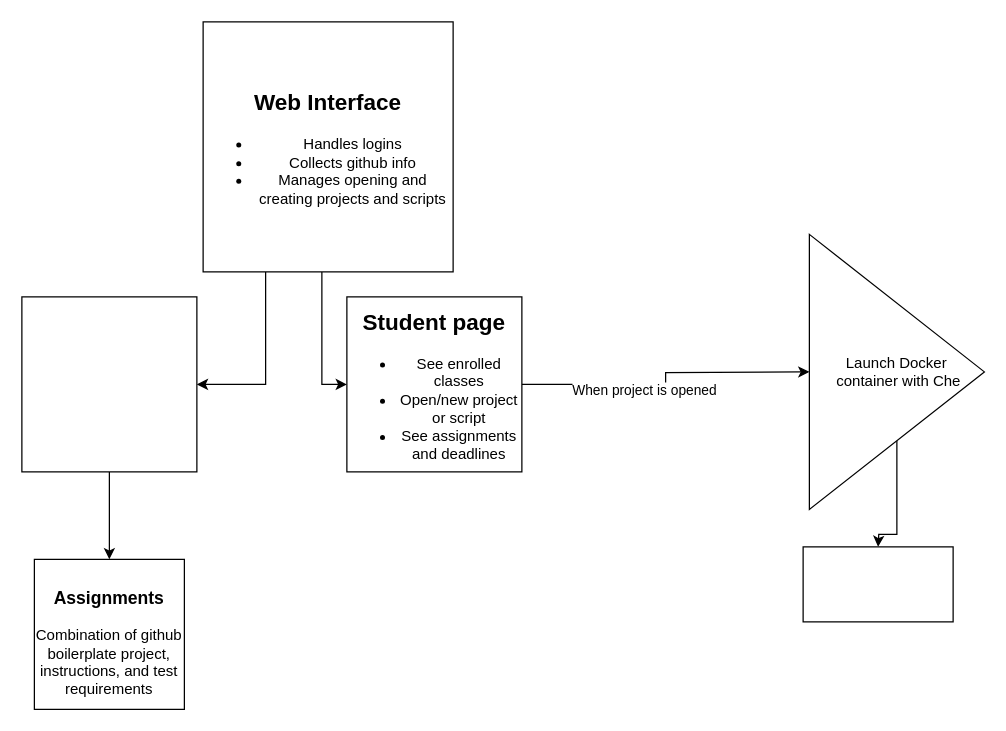
This 1006x731 diagram has some shape labels left out. The box of each missing label's shape, as (x1, y1, x2, y2) in pixels:
Che page with IDE, feedback, collaboration: (802, 546, 953, 622)
Instructor Page View classes Create assignments View submissions: (21, 296, 197, 472)
